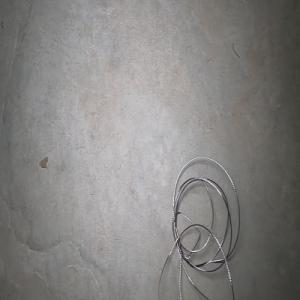Wire: (158, 156, 240, 300)
